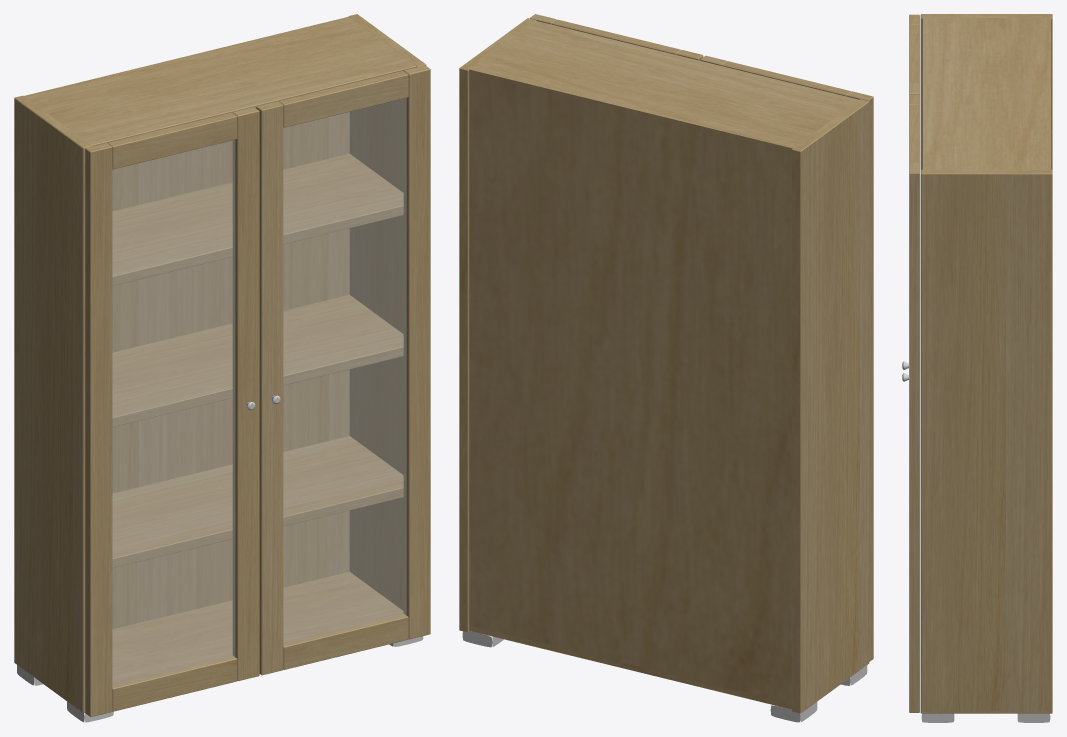
The model's file is sweethome3d-blendswap-cc-0-bookcase-5.glb.
The picture shows the model from 3 angles, left to right: view 1: azimuth 30°, elevation 25°; view 2: azimuth 150°, elevation 25°; view 3: azimuth 270°, elevation 25°; orthographic projection. The views are drawn at different scales.
Parts seen in each view (by area): view 1: Cube.006_Cube.008, Plane, Cube.011_Cube.016, Cube.014_Cube.003, Cube.001; view 2: Cube.014_Cube.003, Cube.006_Cube.008, Cube.011_Cube.016, Cube.001; view 3: Cube.006_Cube.008, Cube.011_Cube.016, Cube.001, Cube.014_Cube.003.
Boxes of the visible parts, left/top/right/bottom form: Cube.006_Cube.008: left=14, top=14, right=426, bottom=712; Plane: left=112, top=98, right=406, bottom=686; Cube.011_Cube.016: left=85, top=65, right=430, bottom=716; Cube.014_Cube.003: left=20, top=16, right=349, bottom=629; Cube.001: left=17, top=636, right=423, bottom=722; Cube.014_Cube.003: left=469, top=69, right=796, bottom=703; Cube.006_Cube.008: left=459, top=18, right=869, bottom=713; Cube.011_Cube.016: left=530, top=14, right=873, bottom=661; Cube.001: left=462, top=631, right=867, bottom=722; Cube.006_Cube.008: left=920, top=14, right=1052, bottom=713; Cube.011_Cube.016: left=909, top=14, right=919, bottom=712; Cube.001: left=921, top=713, right=1050, bottom=722; Cube.014_Cube.003: left=1049, top=16, right=1050, bottom=169.
Bounding box in the file's own units: 91.88 × 147 × 36.46.
Materials: 4 (1 with a texture image).
